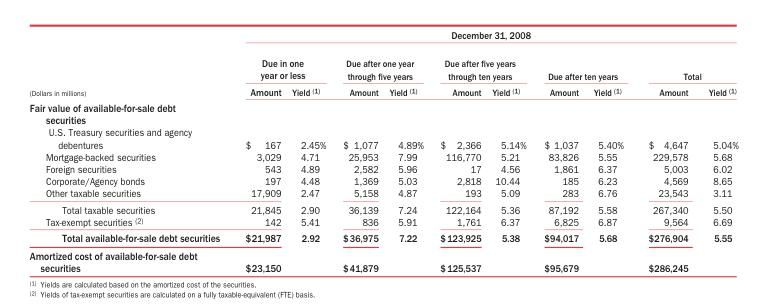table: (28, 28, 737, 273)
table column: (28, 28, 232, 273), (635, 28, 697, 273), (431, 28, 486, 273), (232, 28, 285, 273), (534, 28, 585, 273), (333, 28, 383, 273), (585, 28, 635, 273), (285, 28, 333, 273), (383, 28, 431, 273), (486, 28, 534, 273), (697, 28, 737, 273)
table column header: (28, 28, 737, 99)
table projected row header: (28, 99, 737, 125)
table row: (28, 48, 737, 83), (28, 246, 737, 273), (28, 99, 737, 125), (28, 125, 737, 150), (28, 28, 737, 48), (28, 229, 737, 246), (28, 83, 737, 99), (28, 186, 737, 201), (28, 201, 737, 215), (28, 215, 737, 229), (28, 150, 737, 162), (28, 162, 737, 174), (28, 174, 737, 186)
table spanning cell: (28, 28, 232, 99), (232, 28, 737, 48), (431, 48, 534, 83), (635, 48, 737, 83), (232, 48, 333, 83), (534, 48, 635, 83), (333, 48, 431, 83)
